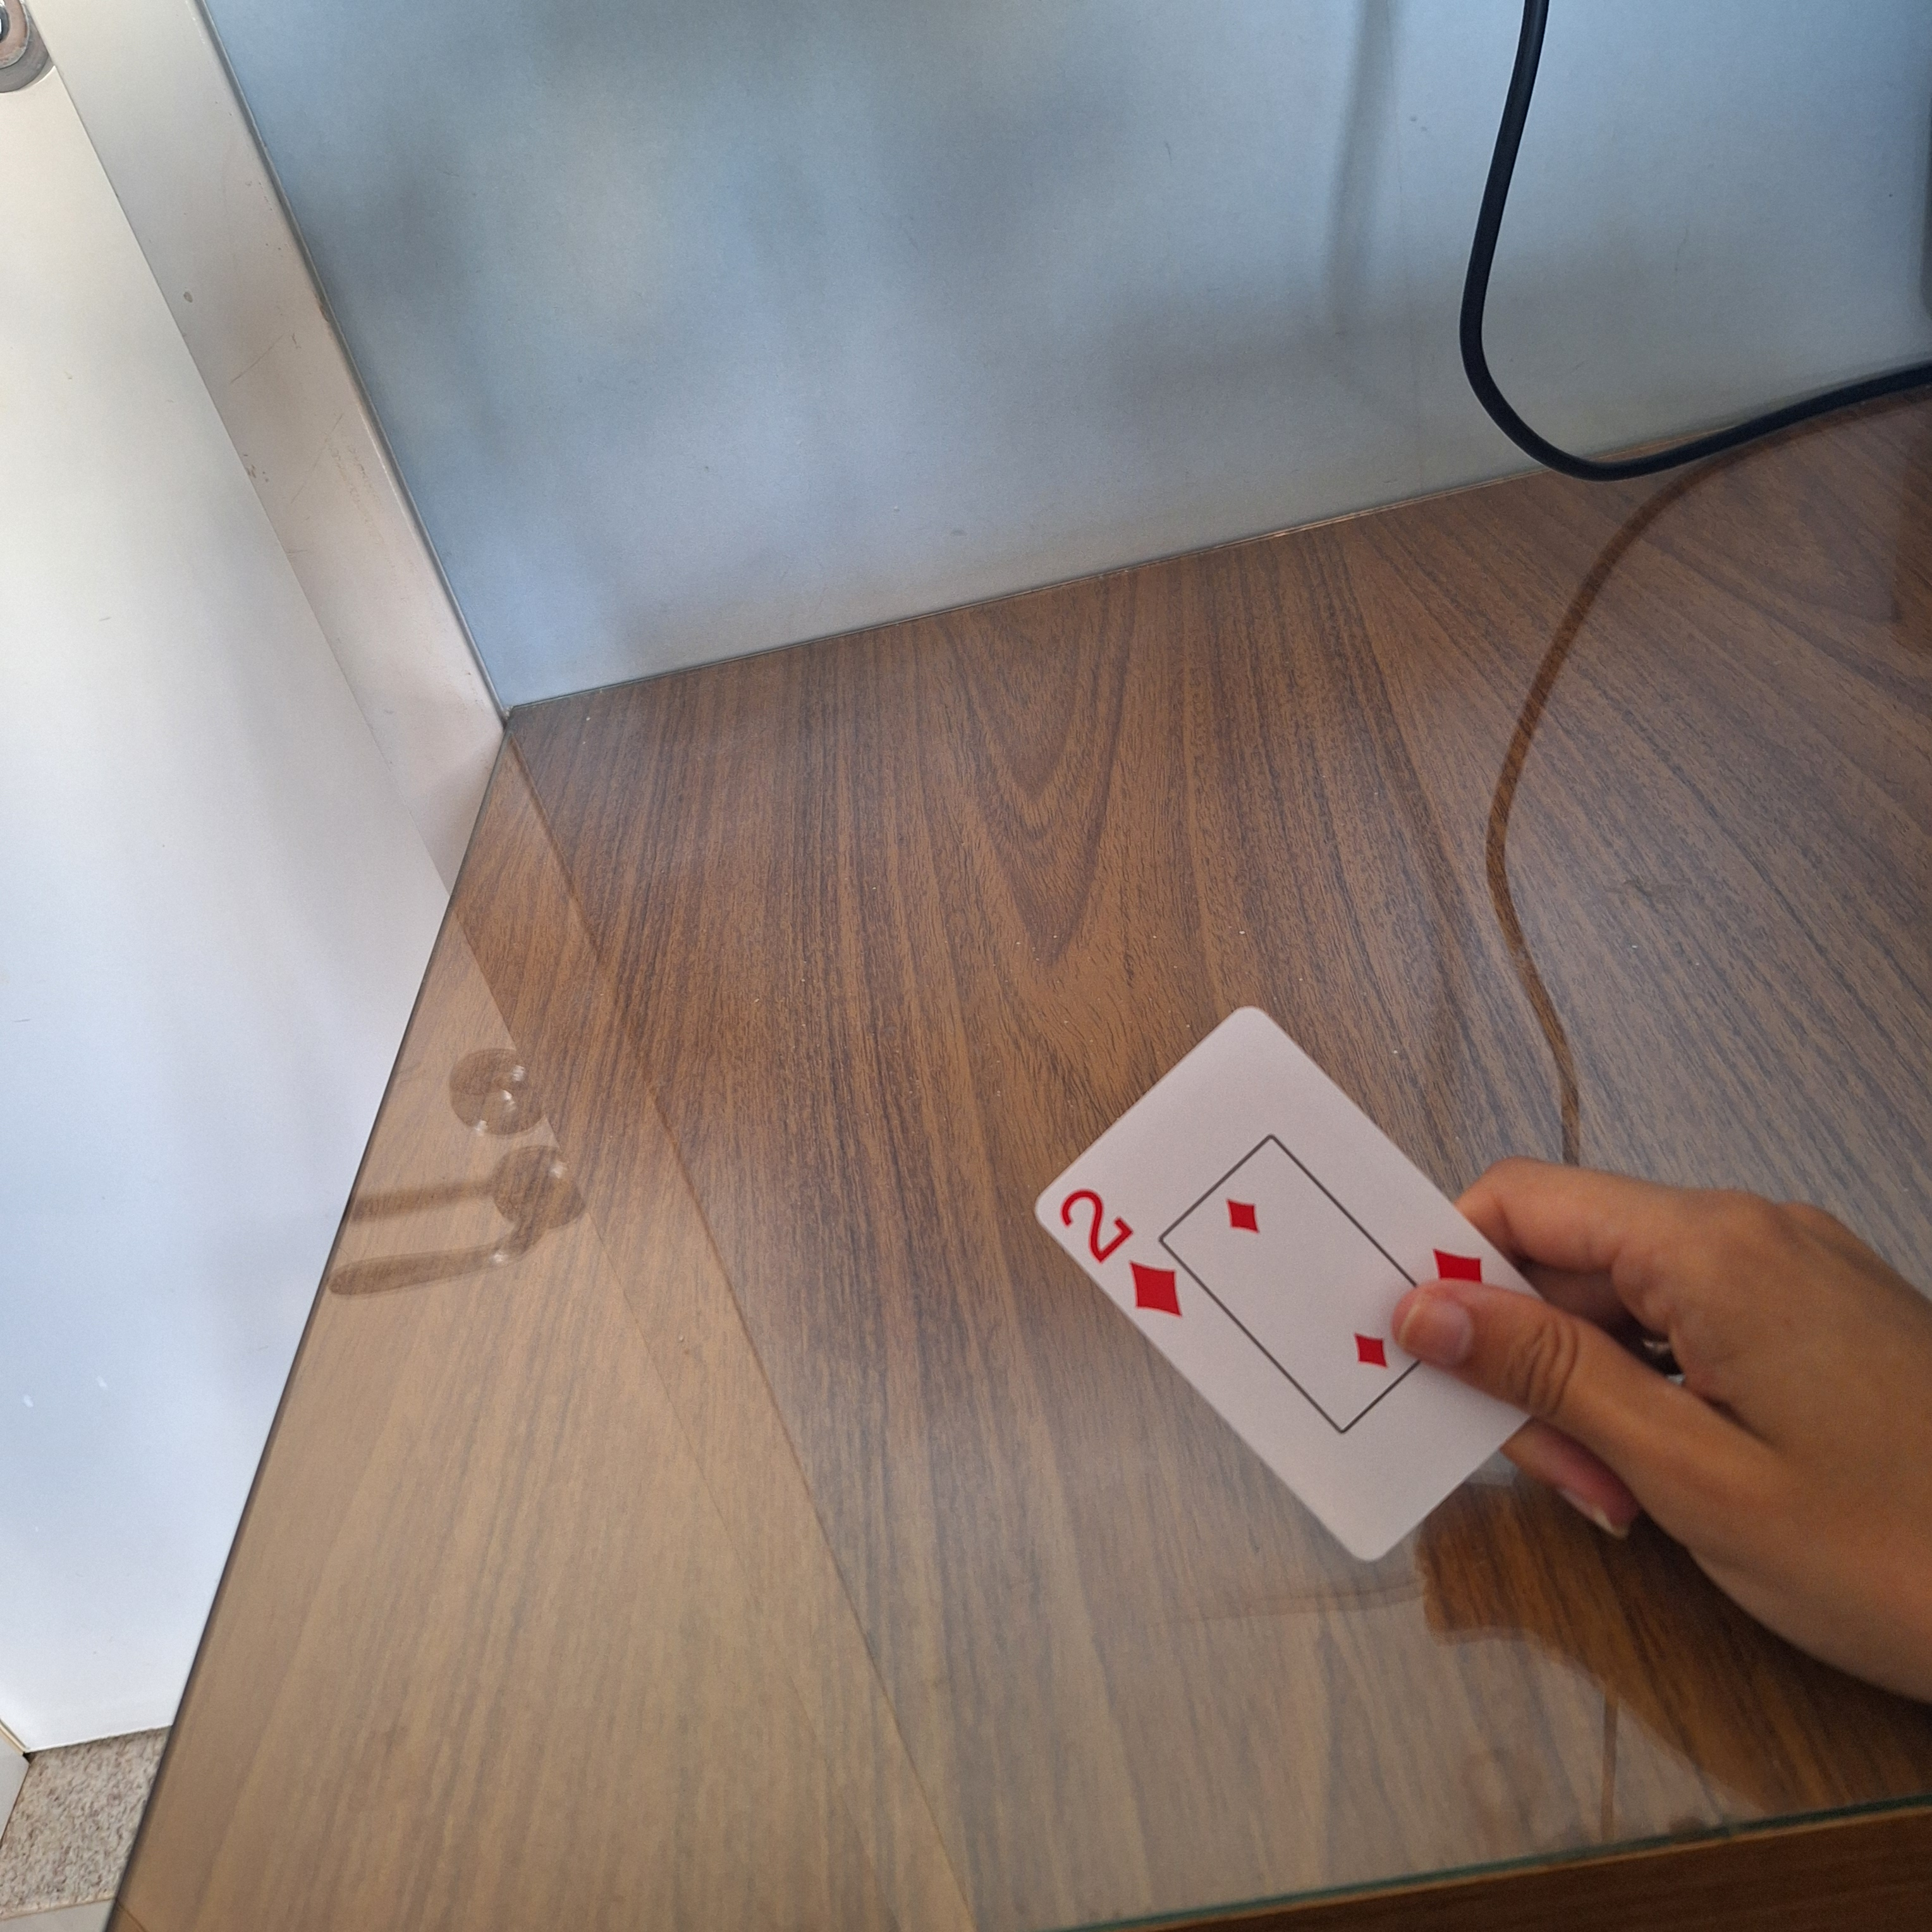2O: (1056, 1184, 1192, 1327)
